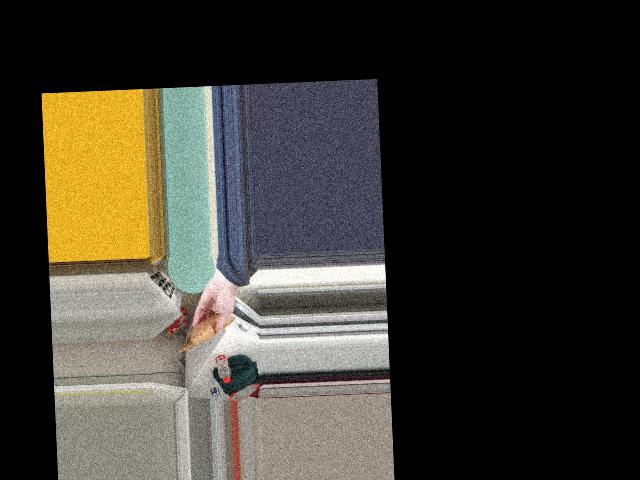sweet_potato: (192, 315, 229, 342)
